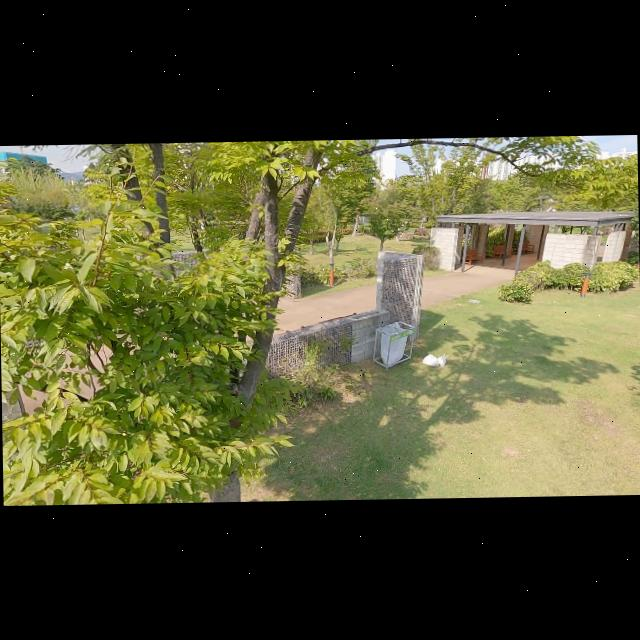trash: (420, 352, 439, 368), (434, 352, 449, 368)
